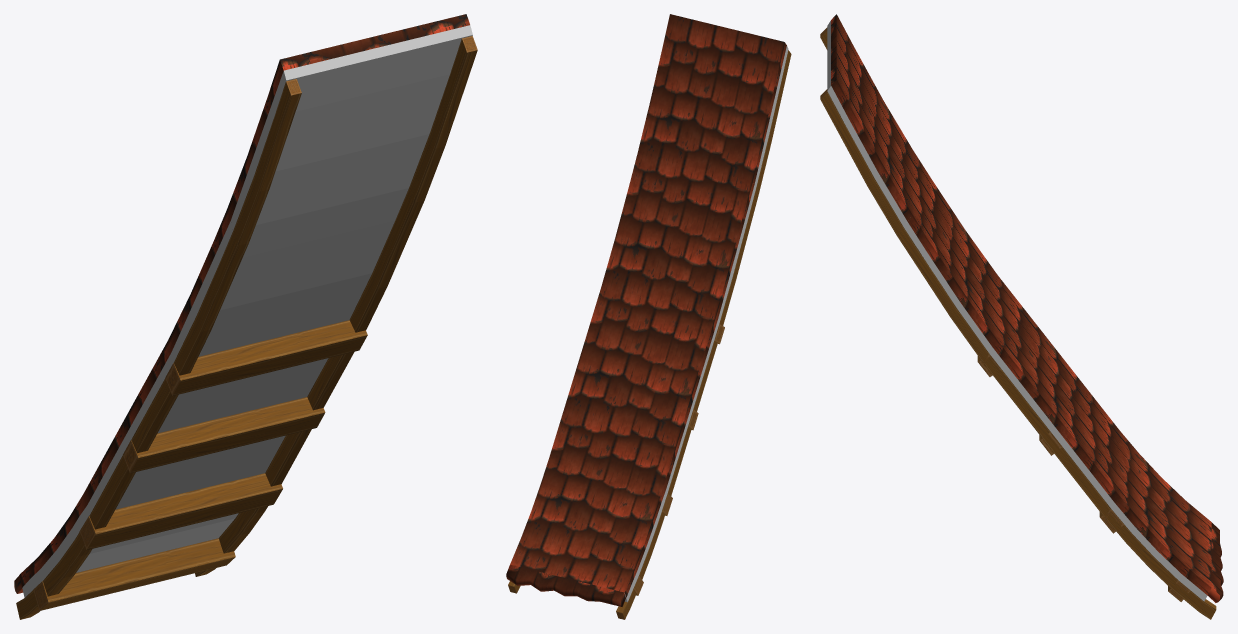
File: SM_House_Roof_02_Tiling_Half.fbx
3 views of the same model, side by side, from view 1: azimuth 30°, elevation 25°; view 2: azimuth 150°, elevation 25°; view 3: azimuth 270°, elevation 25° (orthographic). The views are drawn at different scales.
Parts seen in each view (by area): view 1: SM_House_Roof_02_Tiling_Half; view 2: SM_House_Roof_02_Tiling_Half; view 3: SM_House_Roof_02_Tiling_Half.
Boxes of the visible parts, x1,y1,x2,y2 form: SM_House_Roof_02_Tiling_Half: (14, 14, 477, 619); SM_House_Roof_02_Tiling_Half: (506, 14, 791, 619); SM_House_Roof_02_Tiling_Half: (820, 14, 1223, 619).
Size of the model in its own units: 2.52 by 9.64 by 6.51.
